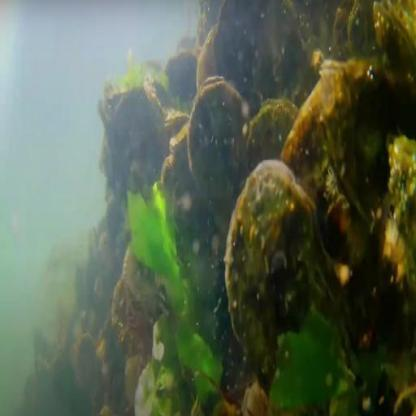Oyster- Indeterminate: (224, 161, 367, 416), (188, 76, 252, 236), (371, 0, 416, 111), (169, 120, 191, 156)
Oyster-Closed: (284, 81, 373, 284), (322, 56, 416, 234), (215, 0, 279, 106), (249, 100, 297, 169), (123, 236, 160, 308), (163, 53, 198, 108), (197, 20, 218, 86)
